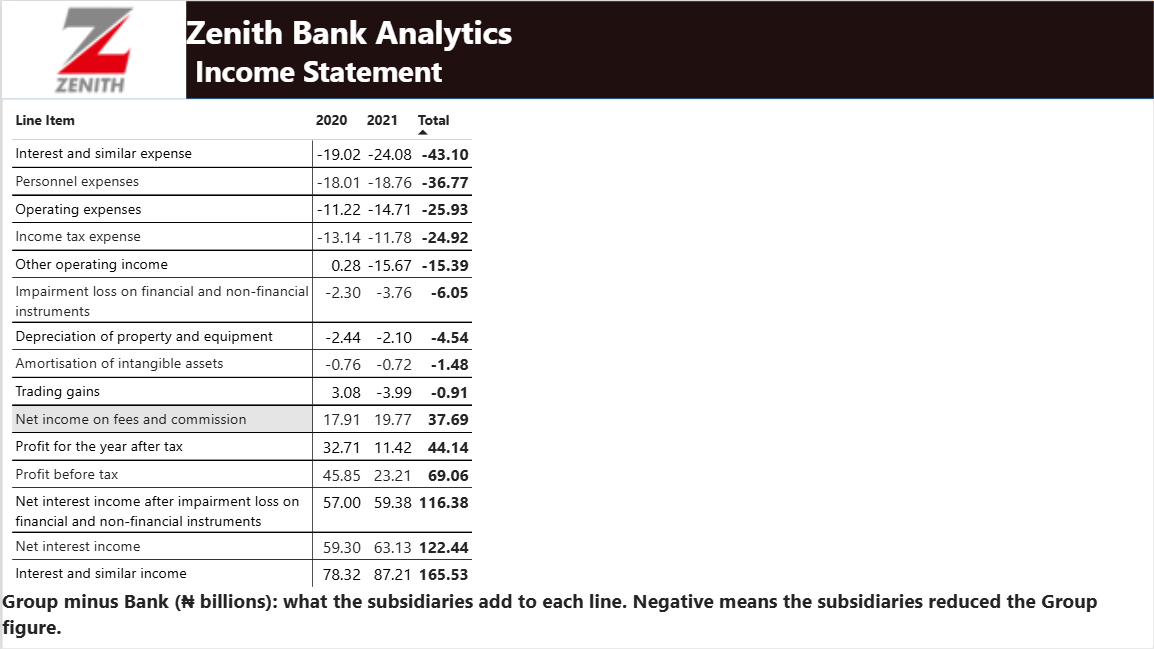

This screenshot's page, from the dashboard's own definition file:
{"tool":"powerbi","page":{"name":"Income Statement ","canvas":[1920,1080],"ordinal":3},"visuals":[{"type":"pivotTable","fields":{"Columns":["Fact_Financials.Financial_Year"],"Rows":["Dim_Line_Item.Line_Item"],"Values":["Fact_Financials.Subsidiary Contribution"]},"box":[0,0,1920,1060.6],"z":0}]}

Visuals, with their boxes in screenshot pixels (x1, y1, x2, y2), scaled from the page's 1920x1080 canvas onto the 1154x649 screenshot:
pivotTable - Fact_Financials.Financial_Year x Dim_Line_Item.Line_Item: 0:0:1153:637
